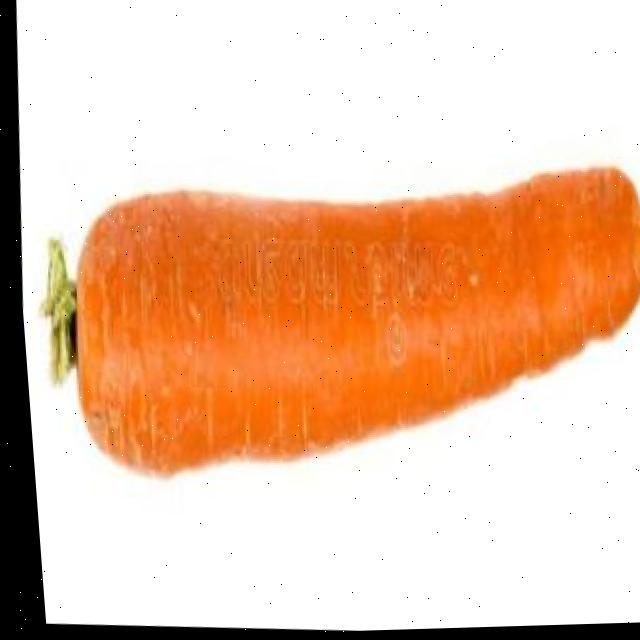Wet: (26, 133, 640, 514)
